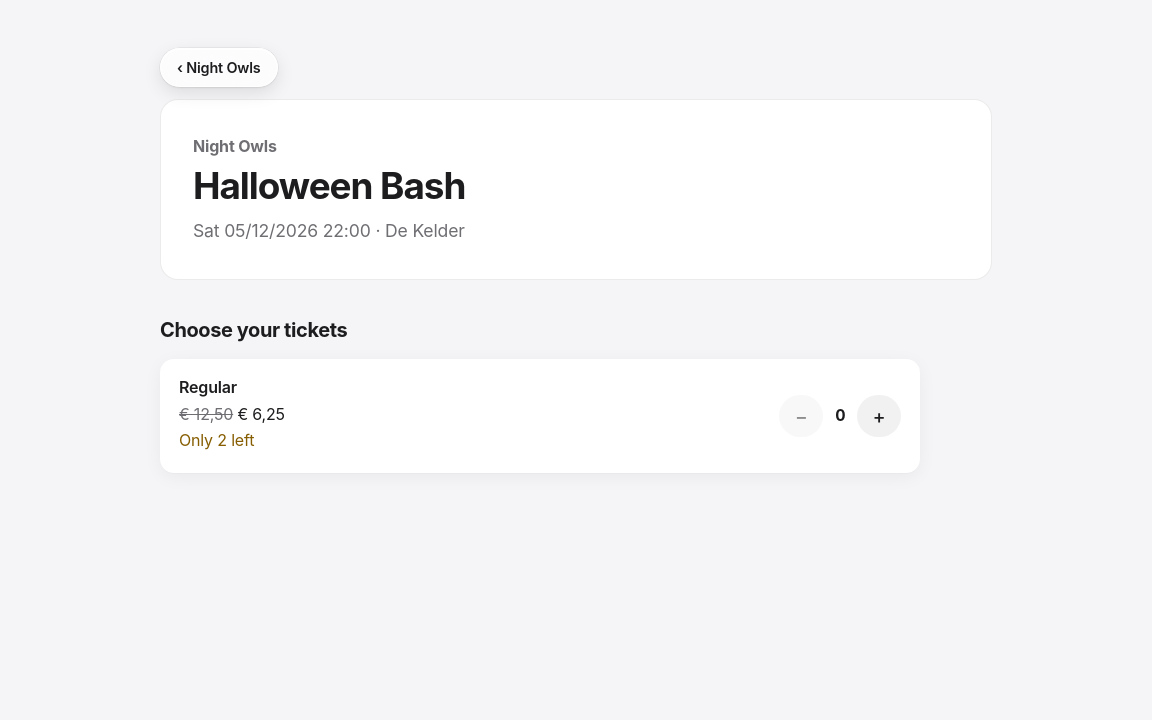
Test case: EventPage › does not let someone pick more tickets than are left
Click the button named "More Regular": (879, 416) [857,395,901,437]
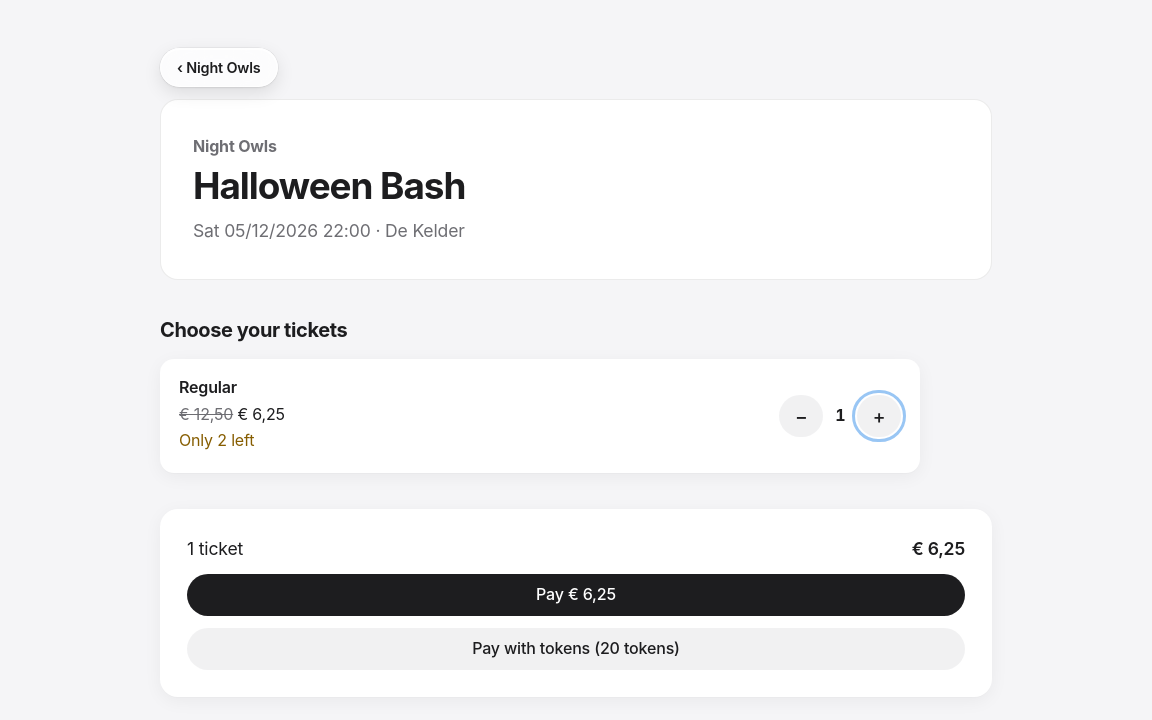
Click the button named "More Regular": (879, 416) [857,395,901,437]
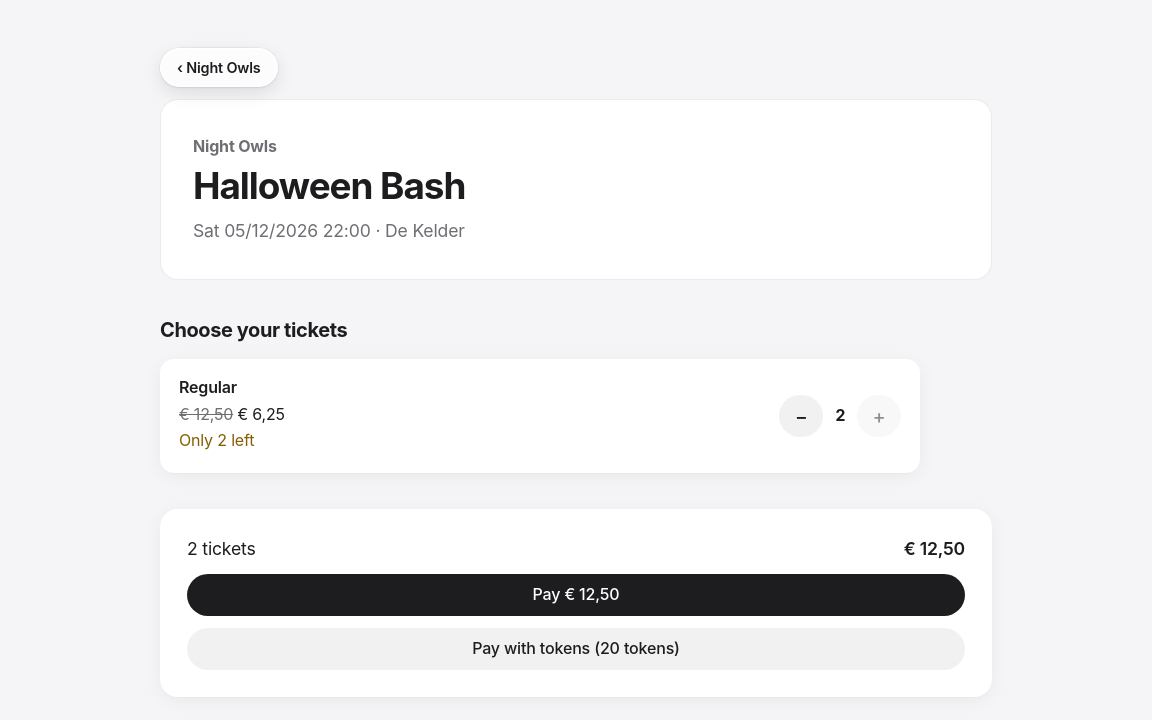
Now the text named "Regular quantity" reads "2", box [835,405,845,425]
Now the button named "More Regular" is disabled, box [857,395,901,437]
